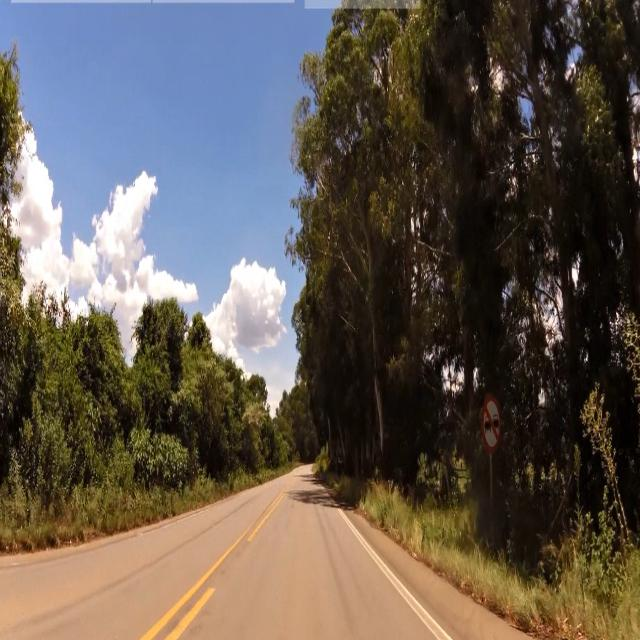R-7: (482, 398, 504, 454)
